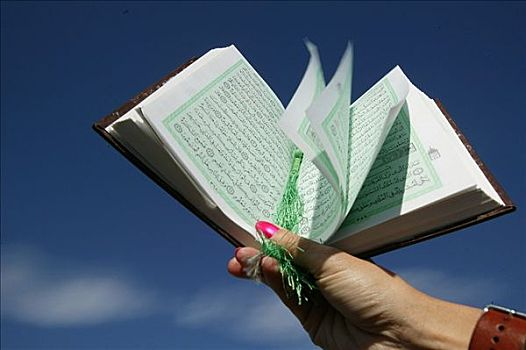book: (94, 33, 518, 276)
